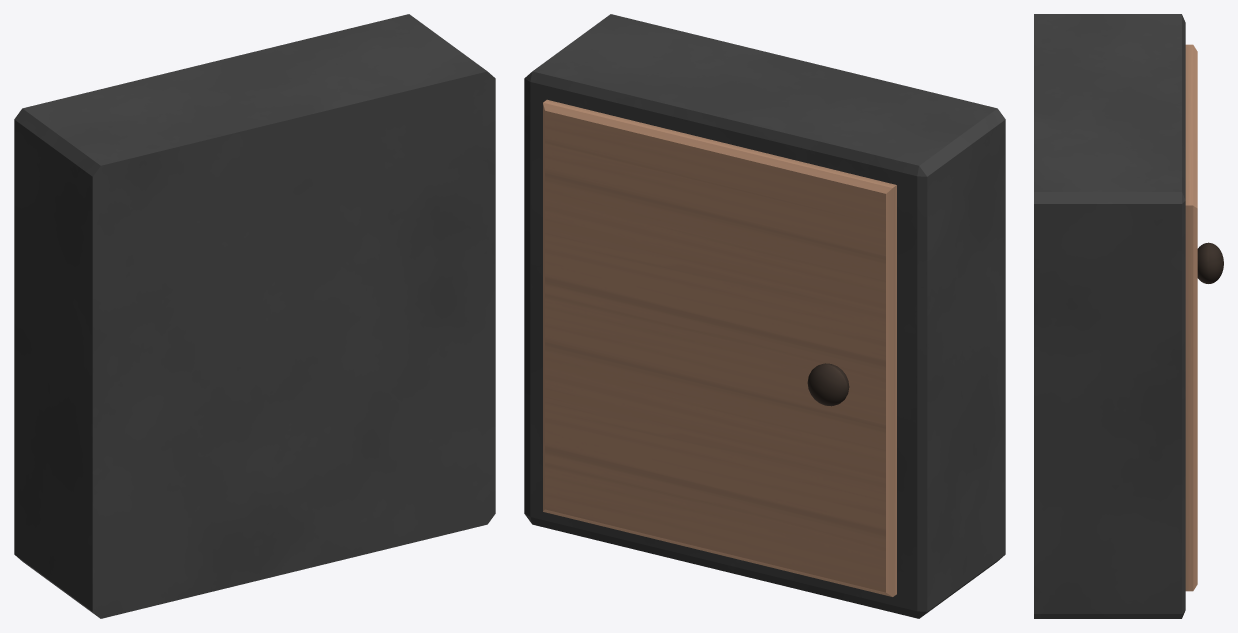
Rendered from KitchenCabinetLeft.fbx.
3 renders of one model, left to right at view 1: azimuth 30°, elevation 25°; view 2: azimuth 150°, elevation 25°; view 3: azimuth 270°, elevation 25°, orthographic. The views are drawn at different scales.
Visible parts, largest first — view 1: Kitchen_Hanging_Cabinet_Left1; view 2: Kitchen_Hanging_Cabinet_Left1; view 3: Kitchen_Hanging_Cabinet_Left1.
Boxes of the visible parts, left/top/right/bottom form: Kitchen_Hanging_Cabinet_Left1: left=14, top=14, right=495, bottom=618; Kitchen_Hanging_Cabinet_Left1: left=524, top=14, right=1005, bottom=618; Kitchen_Hanging_Cabinet_Left1: left=1034, top=14, right=1223, bottom=618.
Size of the model in its own units: 88.44 by 95.04 by 38.31.
1 material, 1 textured.
